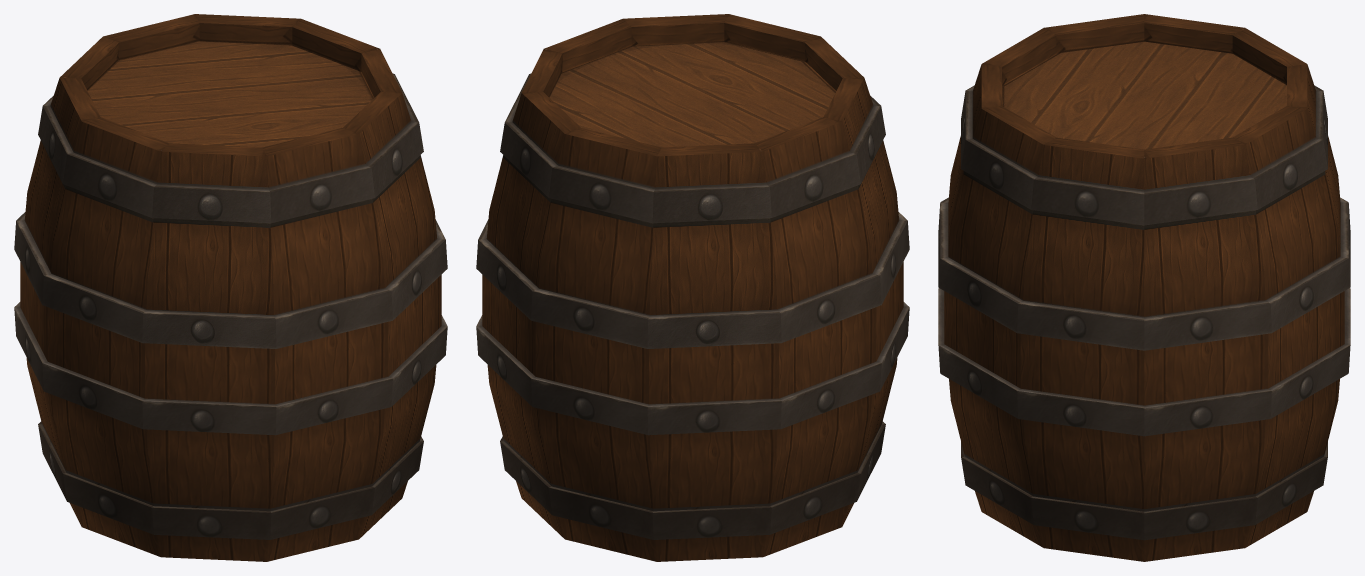
Rendered from oak barrel.fbx.
3 views of the same model, side by side, from view 1: azimuth 30°, elevation 25°; view 2: azimuth 150°, elevation 25°; view 3: azimuth 270°, elevation 25° (orthographic).
Parts seen in each view (by area): view 1: Cylinder001; view 2: Cylinder001; view 3: Cylinder001.
Part boxes in pixels (x1,y1,x2,y2): Cylinder001: (14, 14, 447, 561); Cylinder001: (476, 14, 909, 561); Cylinder001: (938, 14, 1350, 561).
Bounding box in the file's own units: 63.84 × 65.54 × 60.71.
